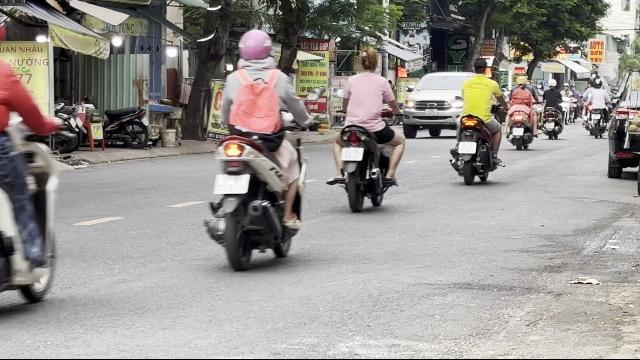helmet: (236, 28, 274, 66)
licenseplate: (215, 173, 248, 192), (341, 148, 363, 160), (459, 142, 477, 154)
motorcyclist: (207, 28, 313, 268), (326, 48, 406, 210), (448, 56, 504, 184)
nohelmet: (358, 47, 380, 72), (471, 56, 489, 75)
